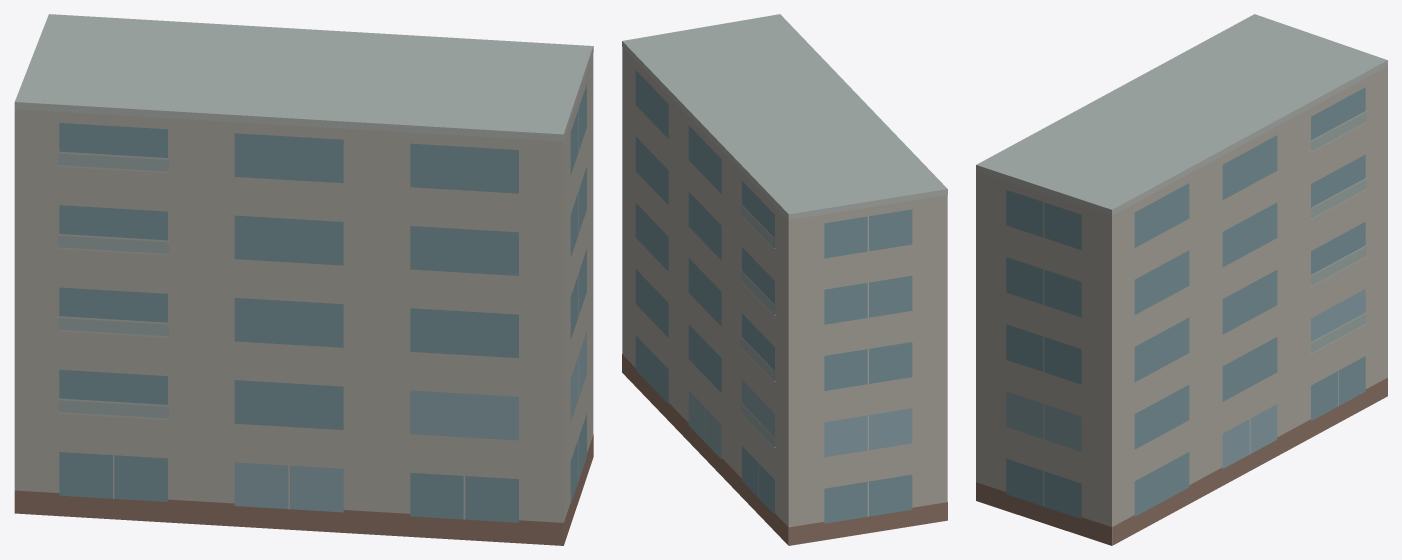
File: survey-upis-32767498.glb
3 renders of one model, left to right at view 1: azimuth 30°, elevation 25°; view 2: azimuth 150°, elevation 25°; view 3: azimuth 270°, elevation 25°, orthographic. The views are drawn at different scales.
Parts seen in each view (by area): view 1: survey-upis-32767498.tmp; view 2: survey-upis-32767498.tmp; view 3: survey-upis-32767498.tmp.
Part boxes in pixels (x1=…): survey-upis-32767498.tmp: x1=14, y1=14, x2=593, y2=545; survey-upis-32767498.tmp: x1=622, y1=14, x2=947, y2=545; survey-upis-32767498.tmp: x1=976, y1=14, x2=1387, y2=545.
Size of the model in its own units: 17.37 by 13.89 by 15.43.
